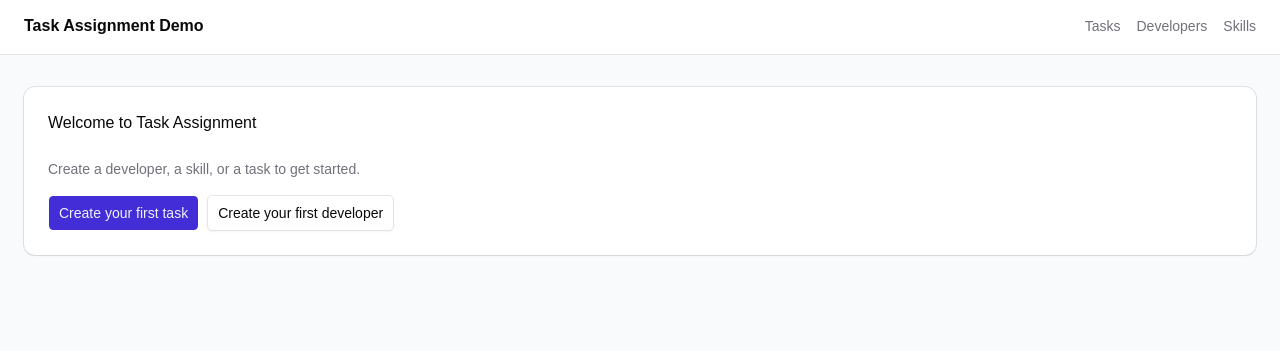
App routing › navigates between routes without a full page reload
Check: the text "Welcome to Task Assignment" is shown, box 48,114 -> 256,131
Click the link "Developers".
click(1172, 26)  # box 1136,18 -> 1207,34
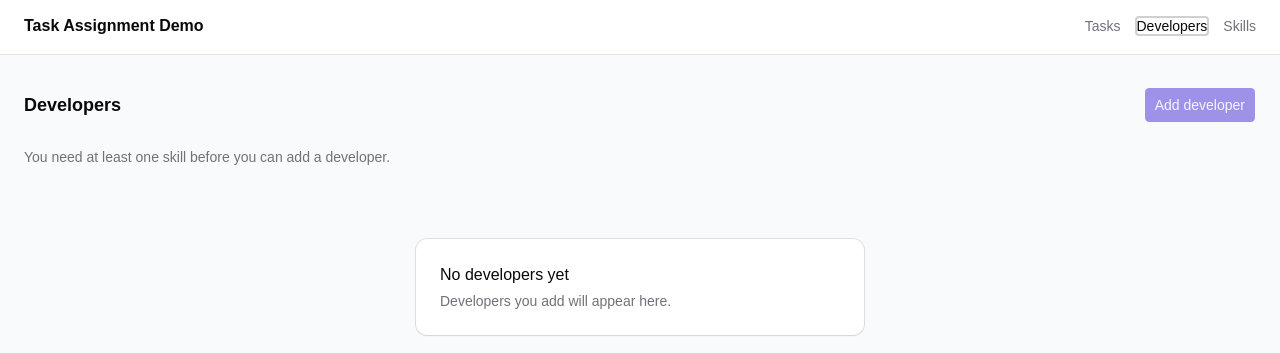
Check: the text "No developers yet" is shown, box 440,266 -> 569,283
Check: the text "Welcome to Task Assignment" is gone
